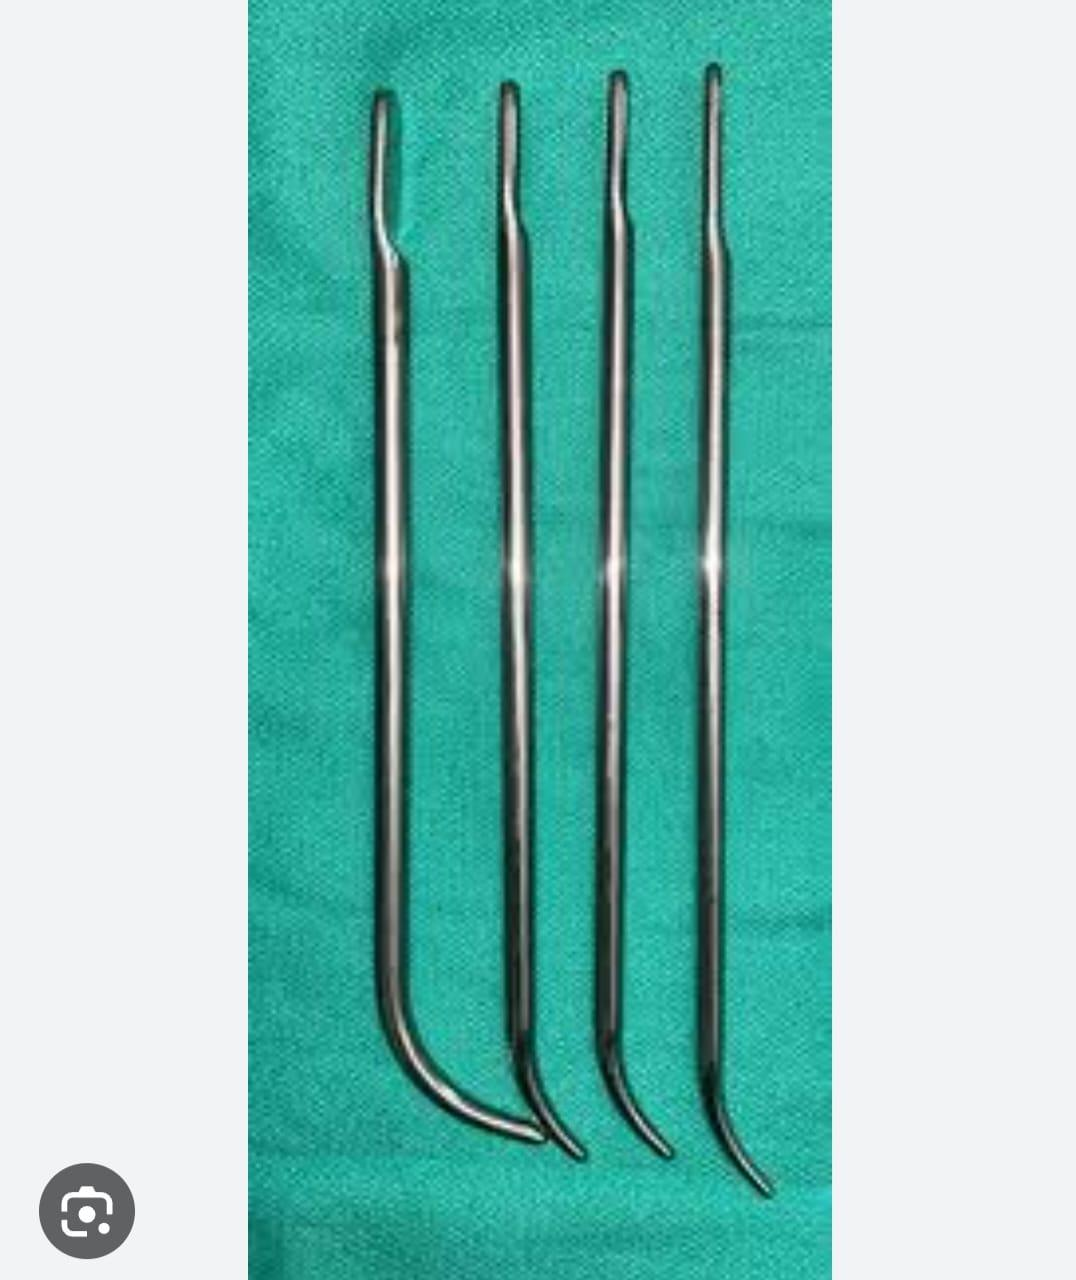Urethral Dilators: (320, 78, 552, 1168), (464, 64, 600, 1170), (684, 60, 794, 1206), (590, 68, 678, 1170)
